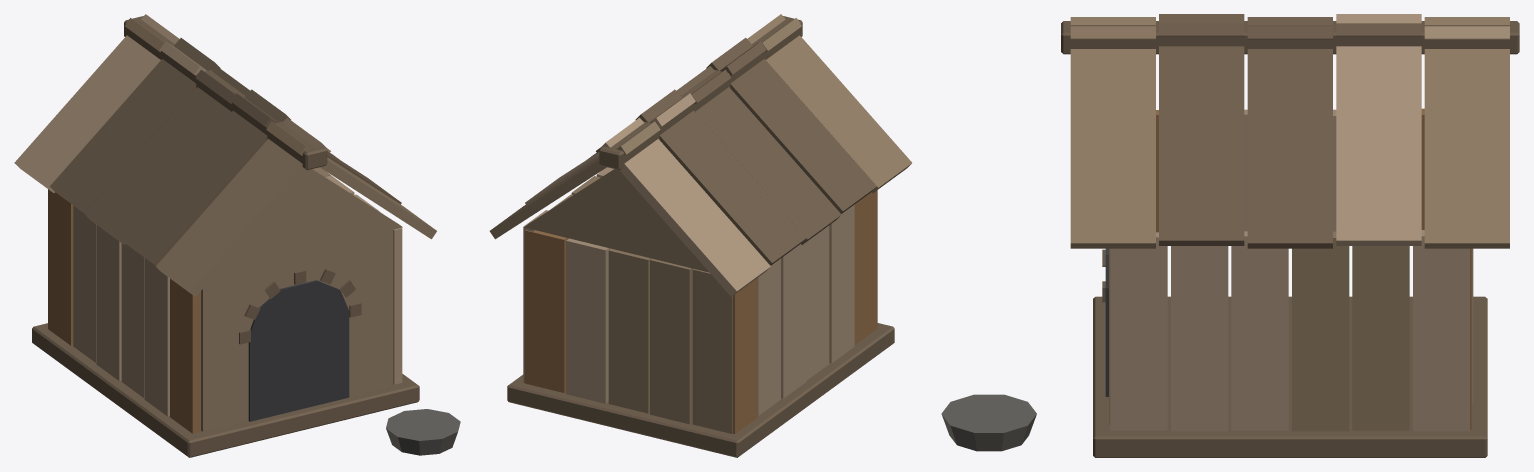
The model's file is doghouse.glb.
3 views of the same model, side by side, from view 1: azimuth 30°, elevation 25°; view 2: azimuth 150°, elevation 25°; view 3: azimuth 270°, elevation 25° (orthographic). The views are drawn at different scales.
Parts seen in each view (by area): view 1: Doghouse; view 2: Doghouse; view 3: Doghouse.
Part boxes in pixels (left/top/right/bottom): Doghouse: left=14, top=14, right=460, bottom=457; Doghouse: left=489, top=14, right=911, bottom=457; Doghouse: left=941, top=14, right=1519, bottom=457.
Size of the model in its own units: 0.8969 by 1.02 by 1.45.
